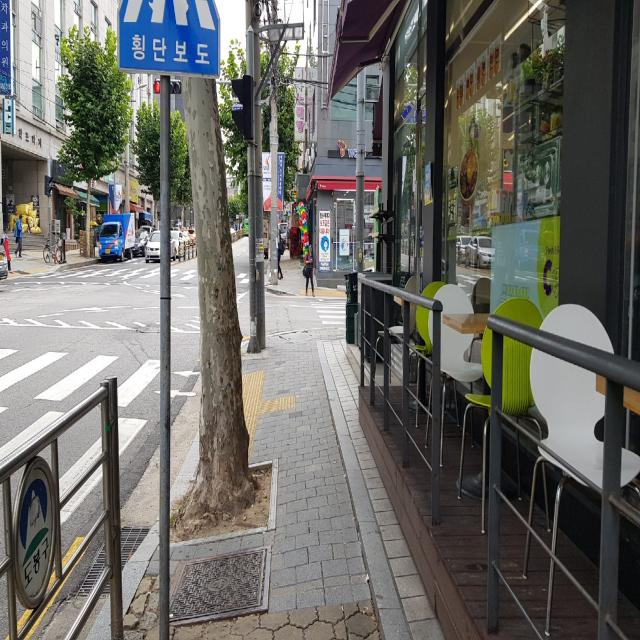횡단보도: (0, 344, 203, 550), (308, 298, 346, 324)
